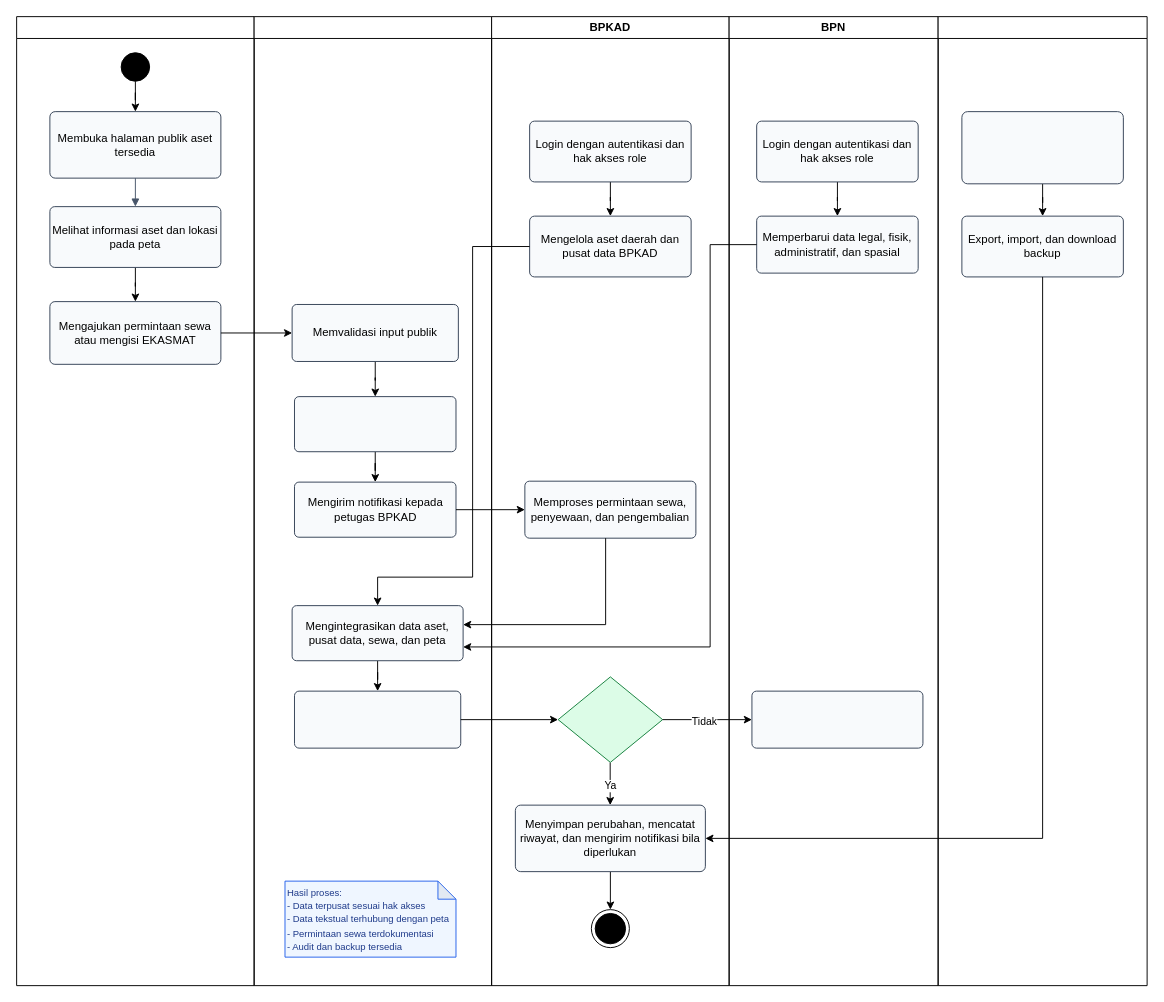
The diagram is 1164 pixels wide and 1002 high, and some of its shapes have lost their labels. Each missing label, with the box of its shape:
Admin BPKAD / Admin BPN: (937, 16, 1147, 986)
MASYARKAT: (16, 16, 254, 986)
Memantau riwayat aktivitas, pengguna, dan backup data: (961, 111, 1123, 184)
Menampilkan dashboard, tabel, filter, dan peta interaktif: (294, 690, 461, 748)
Menampilkan pesan validasi kepada pengguna: (751, 690, 923, 748)
Menyimpan permintaan ke basis data: (294, 396, 456, 452)
Perubahan data valid?: (557, 676, 663, 762)
SIMASET: (253, 16, 492, 986)
